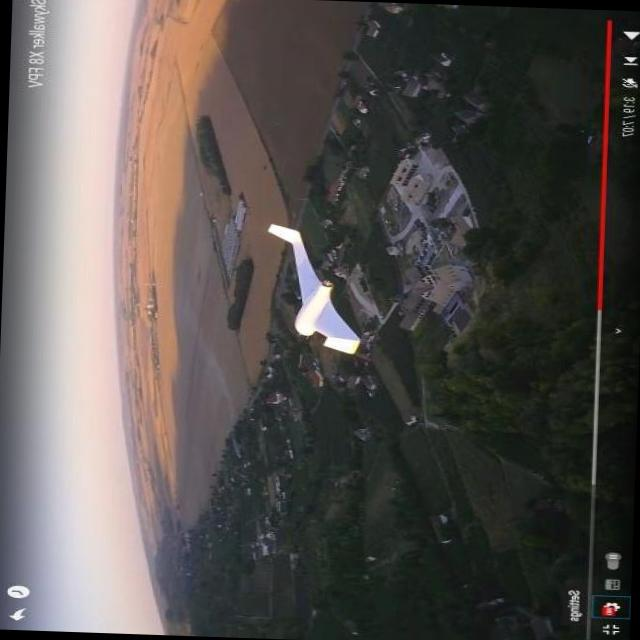UAV: (248, 208, 364, 378)
